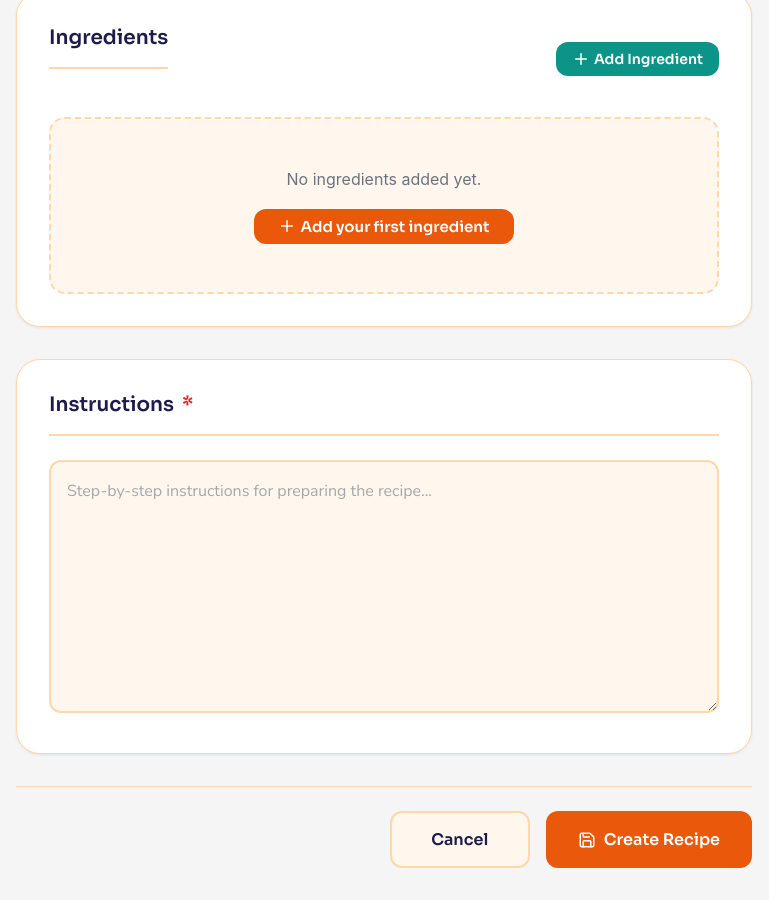
Test: RecipeForm Component › Form Validation › should show error when name is empty on submit
The width and height of the screenshot is (769, 900).
(page scrolled)
Click the button "Create Recipe" at (649, 840), box [546,811,752,868]
(page scrolled)
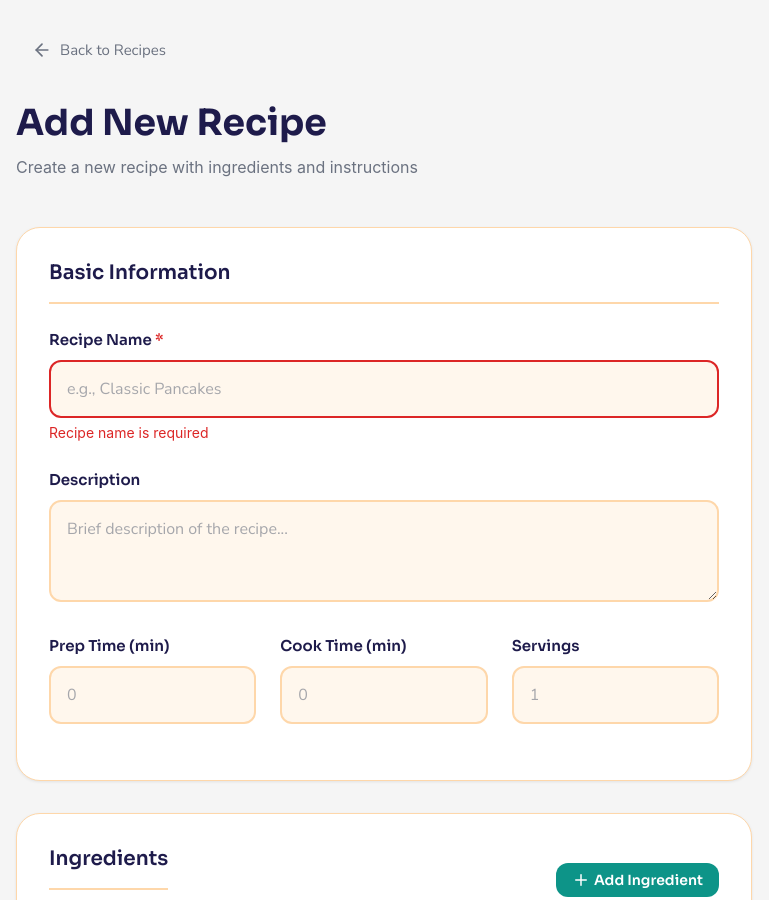
Check: the text "Recipe name is required" is shown, box [49,424,208,441]
